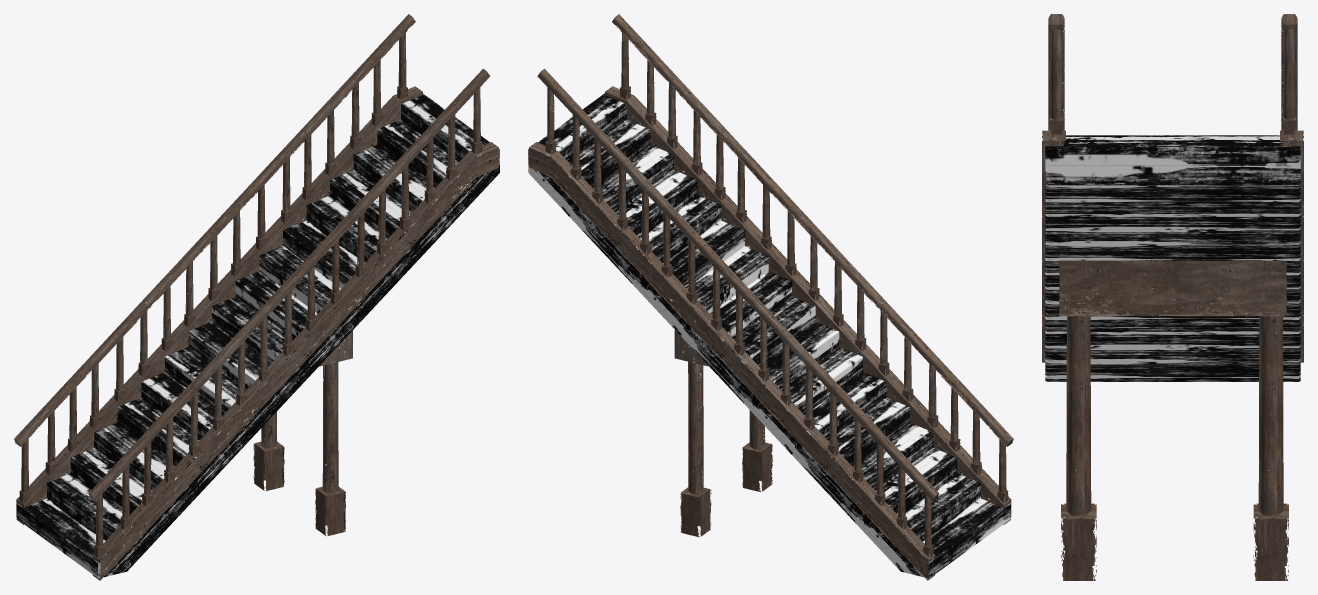
Rendered from SM_stairs_02.fbx.
3 views of the same model, side by side, from view 1: azimuth 30°, elevation 25°; view 2: azimuth 150°, elevation 25°; view 3: azimuth 270°, elevation 25° (orthographic). The views are drawn at different scales.
Parts seen in each view (by area): view 1: SM_stairs_02_LOD0; view 2: SM_stairs_02_LOD0; view 3: SM_stairs_02_LOD0.
Part boxes in pixels (box(x1,y1,x2,y2)): SM_stairs_02_LOD0: box(14, 14, 499, 580); SM_stairs_02_LOD0: box(528, 14, 1013, 580); SM_stairs_02_LOD0: box(1042, 14, 1303, 580).
Bounding box in the file's own units: 574 × 205 × 580.
Materials: 2 (2 with a texture image).
